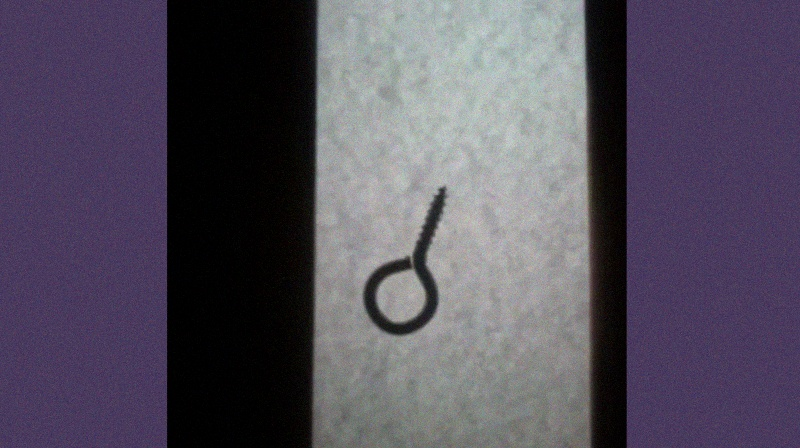O001: (358, 181, 452, 340)
